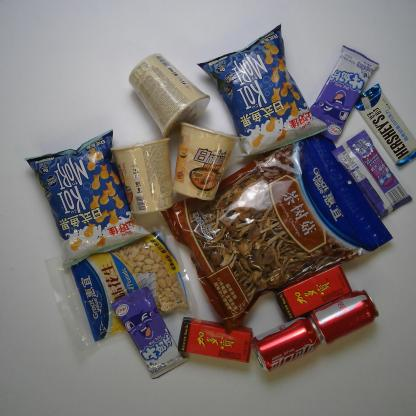Candy: (109, 285, 189, 379), (331, 130, 414, 220), (309, 44, 380, 141)
Chocolate: (352, 84, 416, 168)
Dried Food: (161, 130, 392, 332)
Dried Fruit: (41, 226, 202, 358)
Drink: (274, 262, 352, 322), (308, 290, 380, 346), (249, 317, 322, 372), (177, 316, 253, 364)
Instant Noodles: (127, 55, 212, 138), (174, 121, 243, 202), (110, 137, 174, 216)
Puffed Food: (195, 22, 330, 158), (25, 128, 151, 268)
